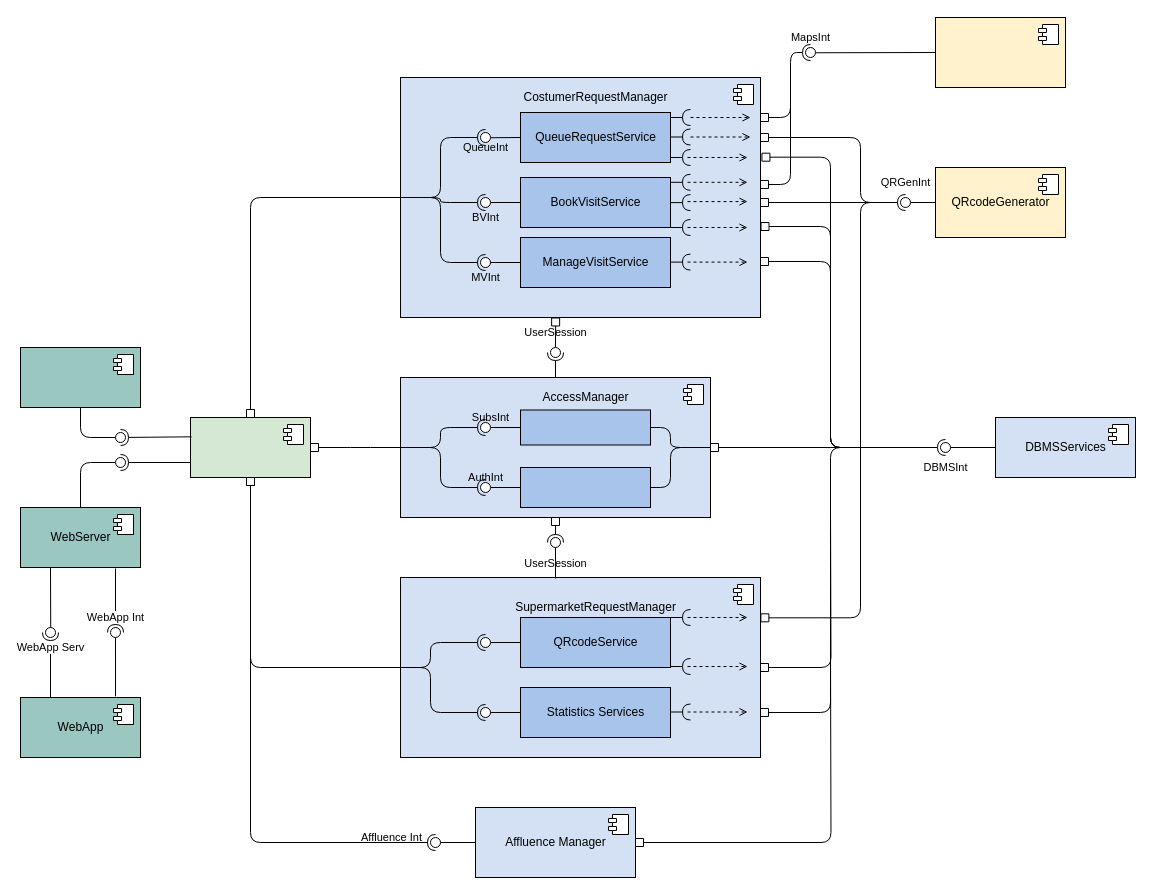
The diagram is 1154 pixels wide and 895 high, and some of its shapes have lost their labels. The centre of each missing label's shape, as x and y in pixels:
AuthenticationService: point (585, 487)
GoogleMapsService: point (1000, 52)
Redirector: point (250, 447)
SubscriptionService: point (585, 427)
UserMobileApp: point (80, 377)
